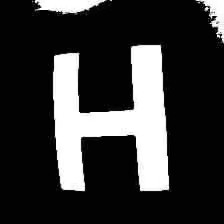LTR_H: (44, 30, 184, 204)
